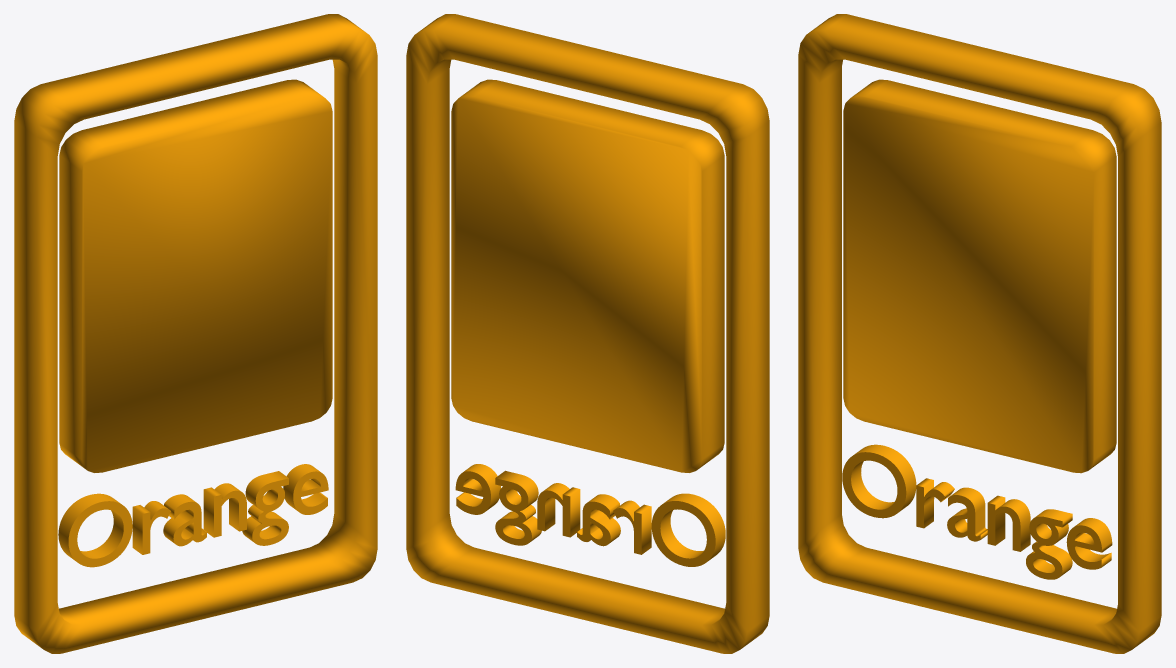
Rendered from Color_Orange.gltf.
The picture shows the model from 3 angles, left to right: view 1: azimuth 30°, elevation 25°; view 2: azimuth 150°, elevation 25°; view 3: azimuth 330°, elevation 25°; orthographic projection.
Visible parts, largest first — view 1: Text; view 2: Text; view 3: Text.
Boxes of the visible parts, x1=… form: Text: x1=14, y1=14, x2=377, y2=653; Text: x1=406, y1=14, x2=769, y2=653; Text: x1=798, y1=14, x2=1161, y2=653.
Size of the model in its own units: 1 by 1.56 by 0.1143.
